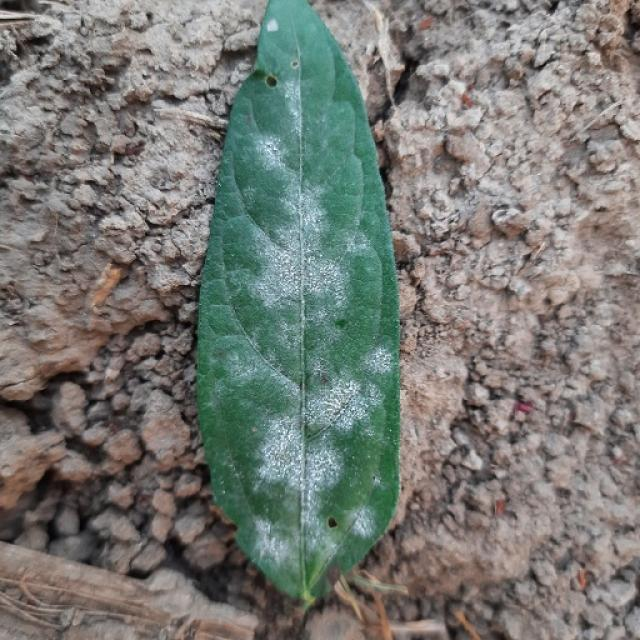Blackgram: (196, 0, 401, 607)
Powdery_Mildew: (226, 234, 378, 524), (232, 104, 303, 238), (305, 346, 387, 443), (256, 413, 346, 500), (276, 232, 352, 323), (251, 405, 311, 486), (342, 252, 381, 320), (205, 299, 243, 338), (253, 132, 290, 171), (361, 345, 395, 383), (350, 511, 378, 541), (266, 19, 278, 32)
